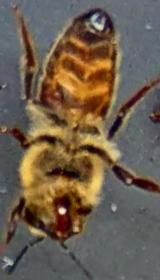varroa_mite: (38, 75, 66, 114)
